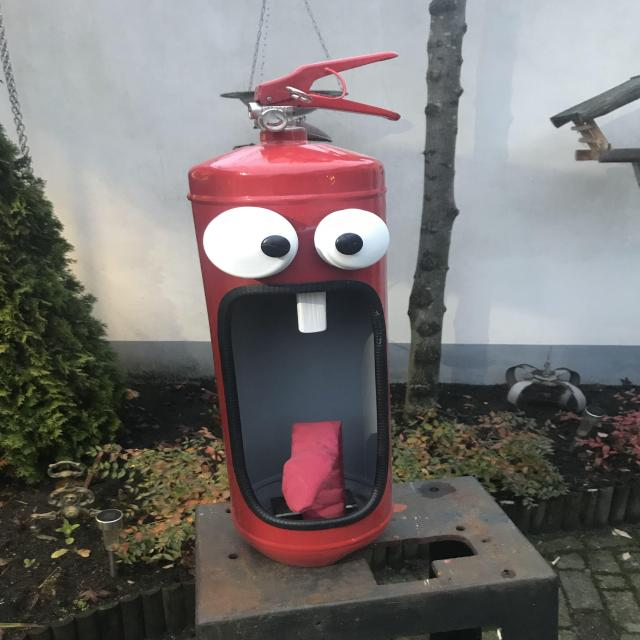fire_extinguisher: (176, 46, 414, 574)
